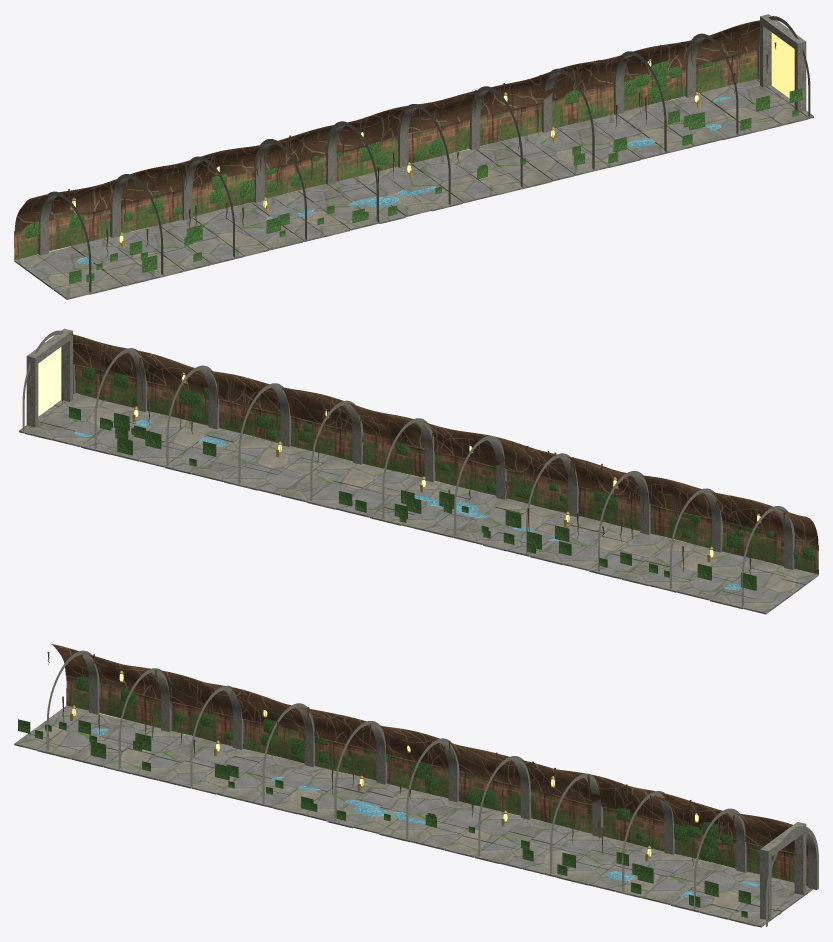
Rendered from ch1_s4_passage.glb.
3 renders of one model, top to bottom at view 1: azimuth 30°, elevation 25°; view 2: azimuth 150°, elevation 25°; view 3: azimuth 330°, elevation 25°, orthographic.
Visible parts, largest first — view 1: S4_Flag, S4_Earth, S4_Brick, S4_Stone, S4_Moss, S4_Root, S4_Door, S4_Water; view 2: S4_Flag, S4_Earth, S4_Brick, S4_Stone, S4_Moss, S4_Root, S4_Door, S4_Water; view 3: S4_Flag, S4_Earth, S4_Brick, S4_Stone, S4_Moss, S4_Root, S4_Water.
Boxes of the visible parts, bbox=[...] form: S4_Flag: bbox=[14, 79, 813, 299]; S4_Earth: bbox=[15, 19, 762, 229]; S4_Brick: bbox=[14, 49, 757, 260]; S4_Stone: bbox=[38, 14, 810, 292]; S4_Moss: bbox=[25, 61, 802, 284]; S4_Root: bbox=[34, 32, 776, 257]; S4_Door: bbox=[771, 32, 794, 98]; S4_Water: bbox=[76, 96, 731, 263]; S4_Flag: bbox=[19, 393, 818, 614]; S4_Earth: bbox=[64, 332, 818, 543]; S4_Brick: bbox=[74, 364, 818, 574]; S4_Stone: bbox=[22, 328, 794, 606]; S4_Moss: bbox=[69, 366, 814, 590]; S4_Root: bbox=[62, 337, 785, 574]; S4_Door: bbox=[38, 347, 61, 416]; S4_Water: bbox=[74, 420, 740, 589]; S4_Flag: bbox=[14, 705, 812, 927]; S4_Earth: bbox=[50, 643, 807, 856]; S4_Brick: bbox=[66, 675, 808, 886]; S4_Stone: bbox=[46, 650, 818, 926]; S4_Moss: bbox=[18, 676, 762, 917]; S4_Root: bbox=[47, 652, 749, 866]; S4_Water: bbox=[92, 728, 758, 897].
Size of the model in its own units: 26.15 by 2.66 by 3.2.
Materials: 10 (8 with a texture image).
